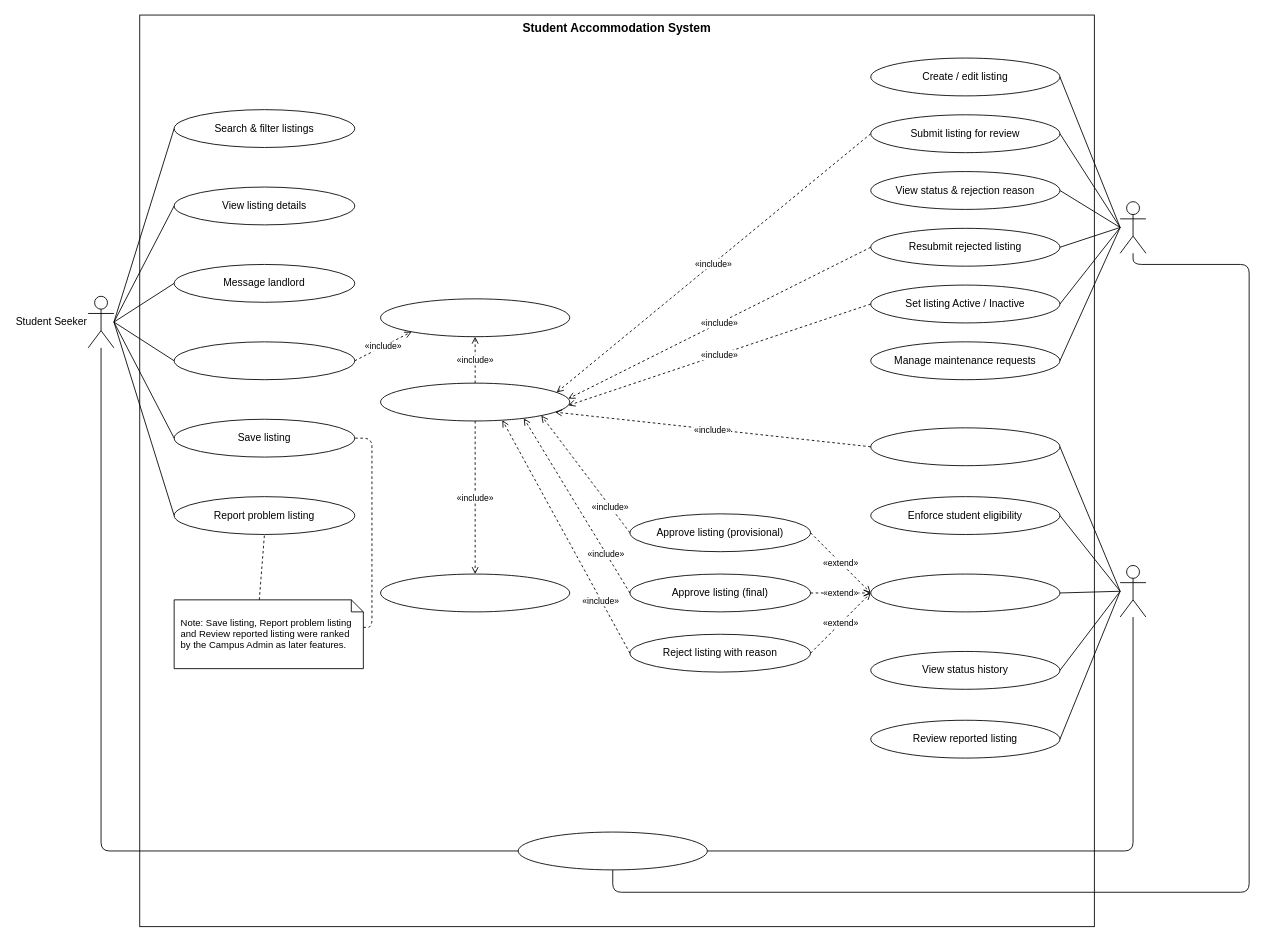
Some shapes in this 1265 by 942 pixel diagram are drawn without their labels. Here are the shapes that lost their labels. From the top down, the centre of each, then its label:
pixel 1132 227: Landlord
pixel 475 317: Notify affected users
pixel 264 360: Express / cancel interest
pixel 475 401: Change listing status
pixel 965 446: Force-deactivate listing
pixel 475 592: Record status change (who + when)
pixel 965 592: Review pending listing
pixel 1132 591: Campus Admin
pixel 612 850: Register / log in
